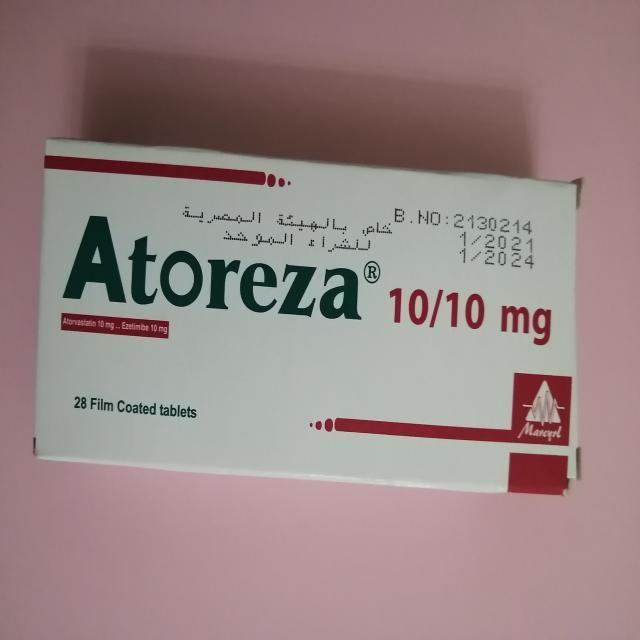Medicine Name: (63, 214, 132, 303), (160, 250, 204, 307), (278, 263, 319, 317), (320, 268, 361, 320), (128, 236, 158, 306), (240, 263, 278, 313), (206, 259, 240, 309)
